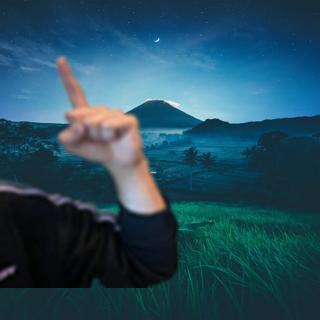IRRITATED: (50, 53, 146, 169)
